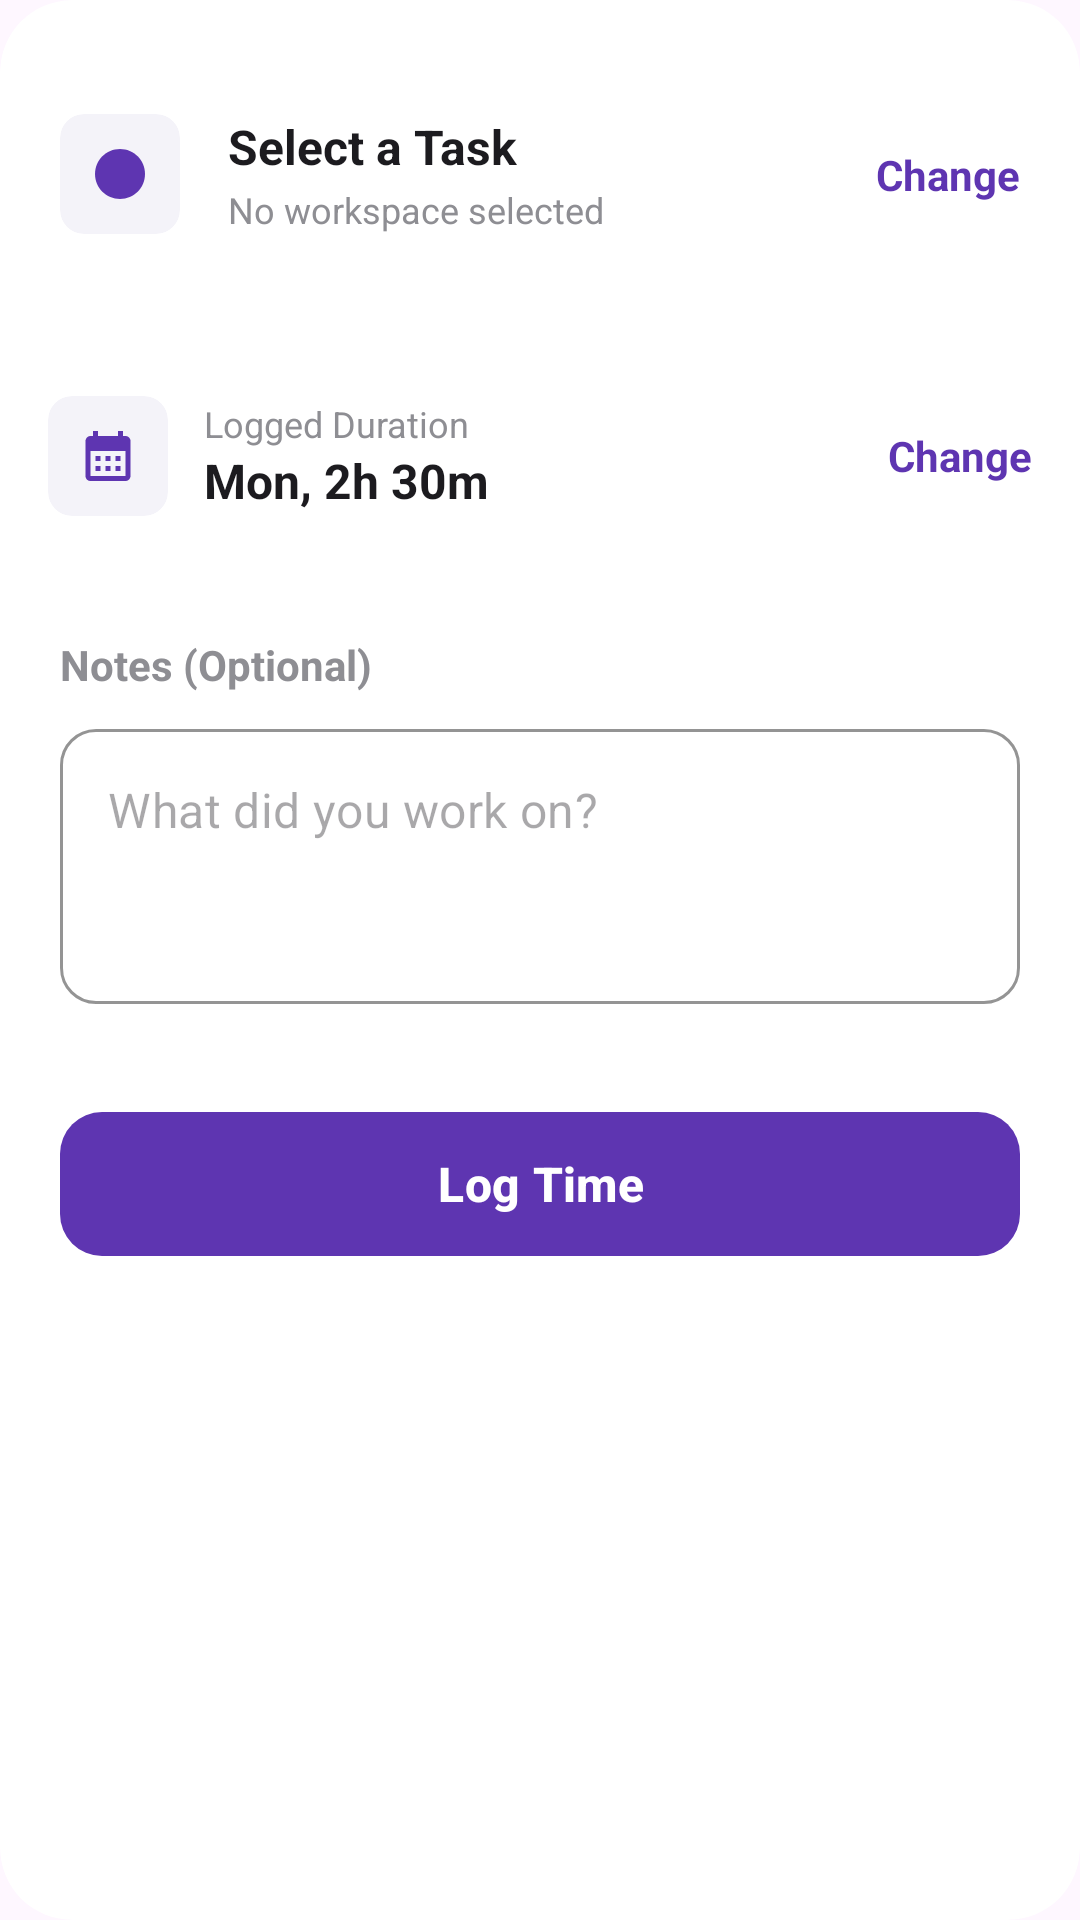

Where to tap for icons on this 1080×1920 app screen, as (x=x, y=y):
calender: (x=108, y=456)
